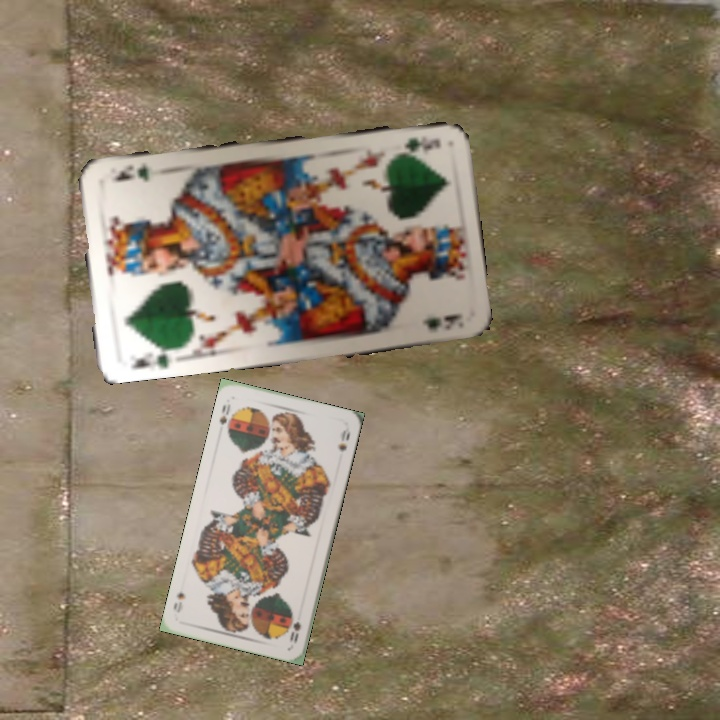GK: (127, 343, 177, 371), (387, 133, 444, 157)
SO: (215, 400, 233, 427), (286, 617, 303, 645)
